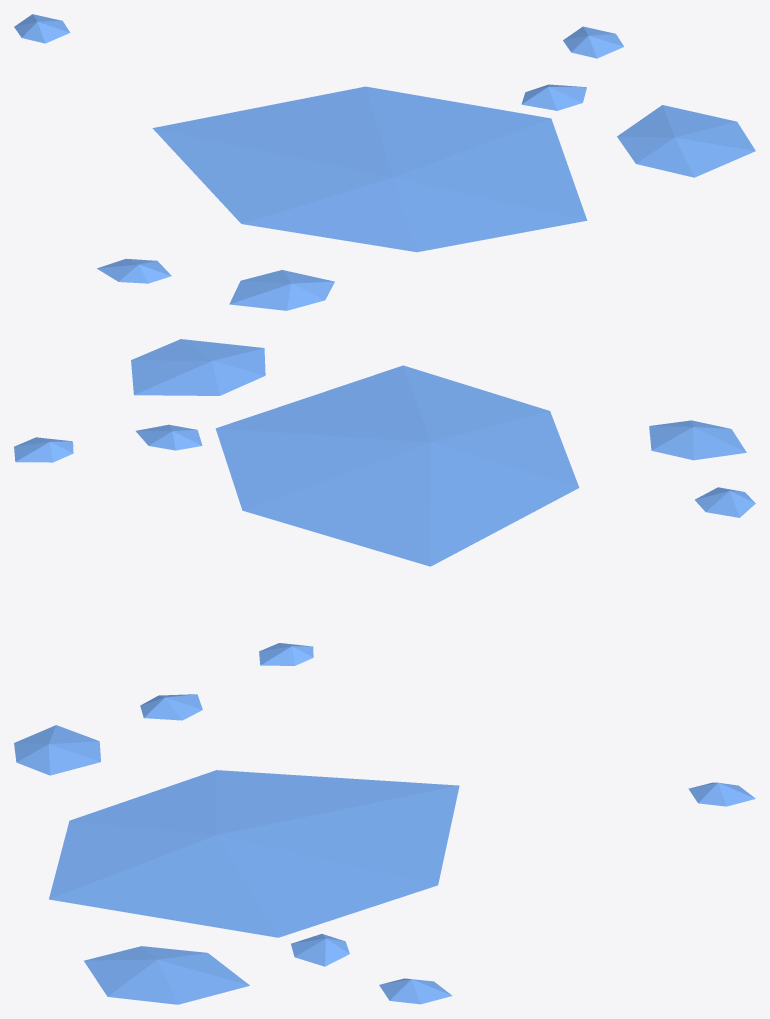
File: Ectoplasm Unharvested.fbx
3 renders of one model, top to bottom at view 1: azimuth 30°, elevation 25°; view 2: azimuth 150°, elevation 25°; view 3: azimuth 270°, elevation 25°, orthographic. The views are drawn at different scales.
Parts seen in each view (by area): view 1: pCylinder9; view 2: pCylinder9; view 3: pCylinder9.
Boxes of the visible parts, bbox=[...] form: pCylinder9: bbox=[14, 14, 755, 310]; pCylinder9: bbox=[14, 339, 755, 665]; pCylinder9: bbox=[14, 694, 755, 1004].
Size of the model in its own units: 0.6445 by 0.00915 by 0.6505.
